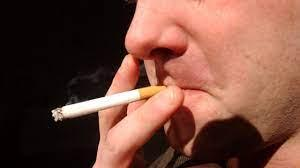smoke: (51, 86, 167, 122)
